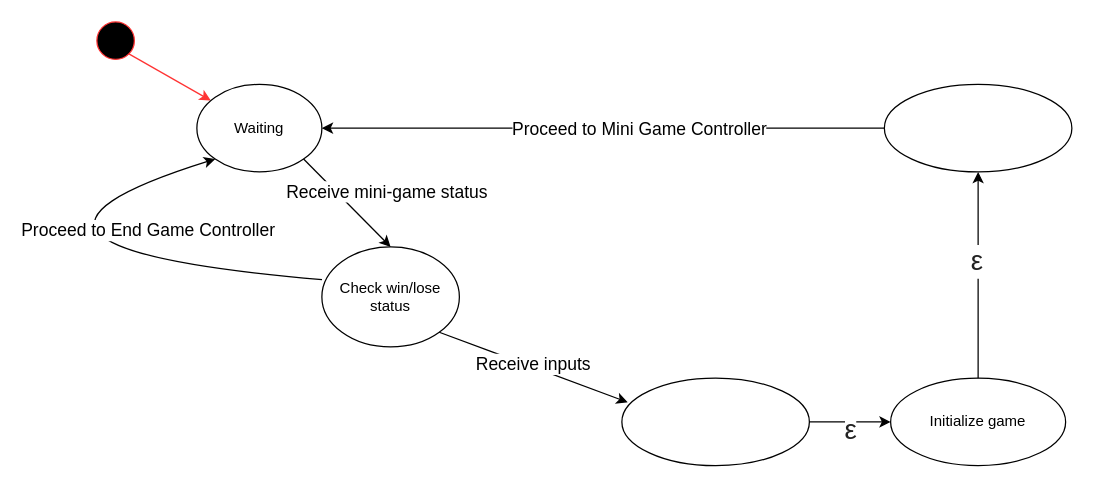
This 1095x488 diagram has some shape labels left out. The centre of each missing label's shape, as x and y in pixels:
"Facilitate transfer" goes at point 977,127.
"Select mini-game option" goes at point 715,421.
